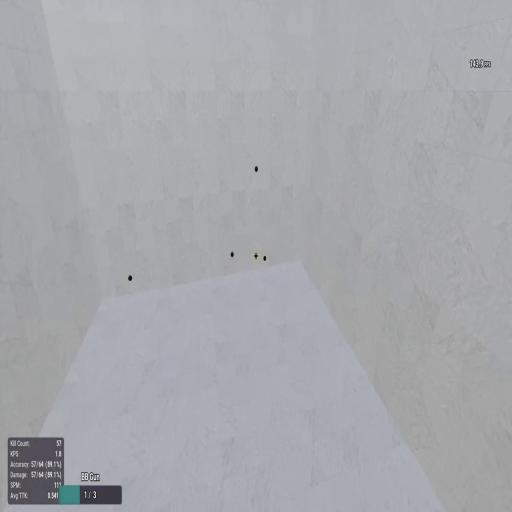Crosshair: (254, 252, 258, 260)
Target: (254, 165, 259, 172), (230, 251, 234, 258), (263, 255, 267, 262), (128, 275, 132, 281)
